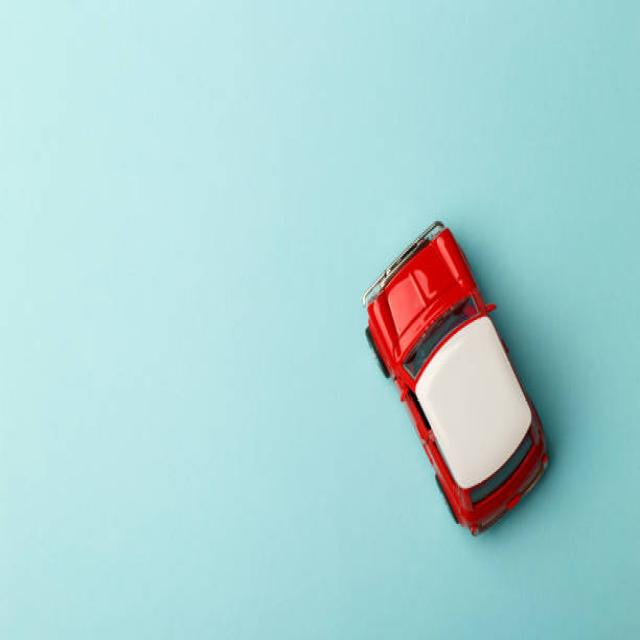Car: (361, 218, 549, 537)
